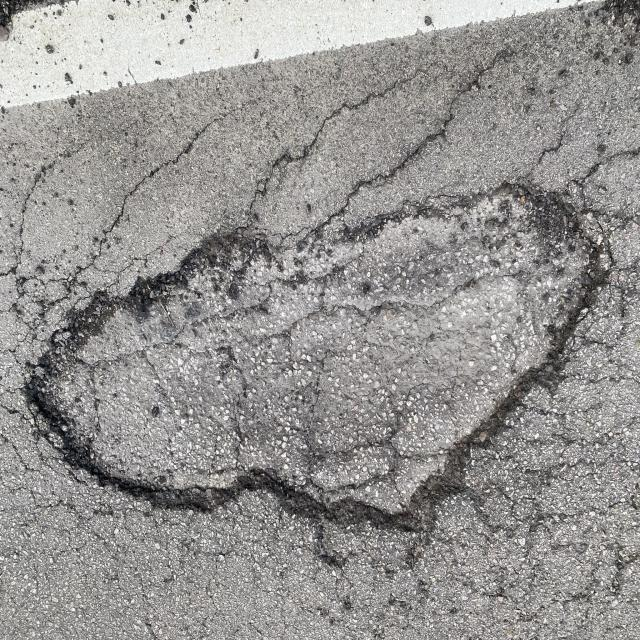pothole: (8, 134, 628, 553)
